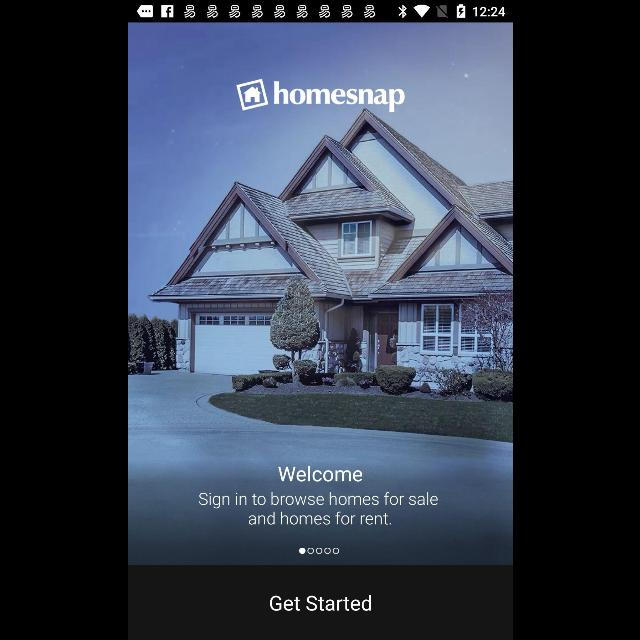backgroundimage: (128, 23, 512, 565)
image: (236, 79, 404, 113)
pageindicator: (298, 548, 339, 554)
text: (198, 492, 438, 524), (278, 466, 362, 482)
textbutton: (128, 566, 512, 640)
uppertaskbar: (128, 1, 512, 23)
